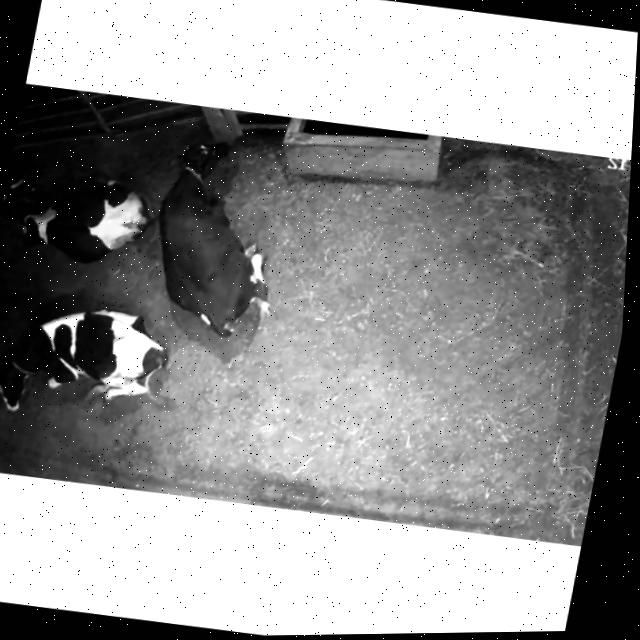lay: (133, 121, 298, 353), (0, 278, 184, 443), (0, 141, 163, 281)
